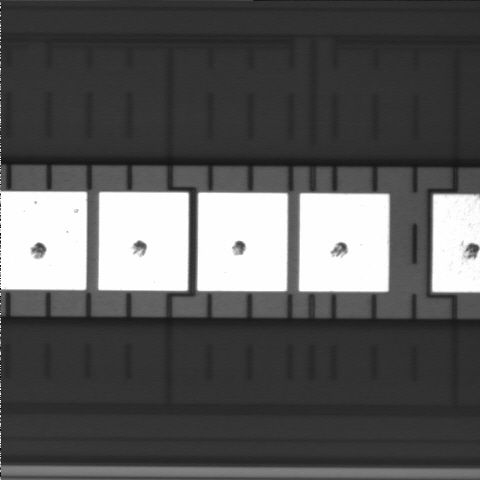pad: (98, 192, 189, 291), (197, 193, 288, 291), (299, 193, 389, 292)
